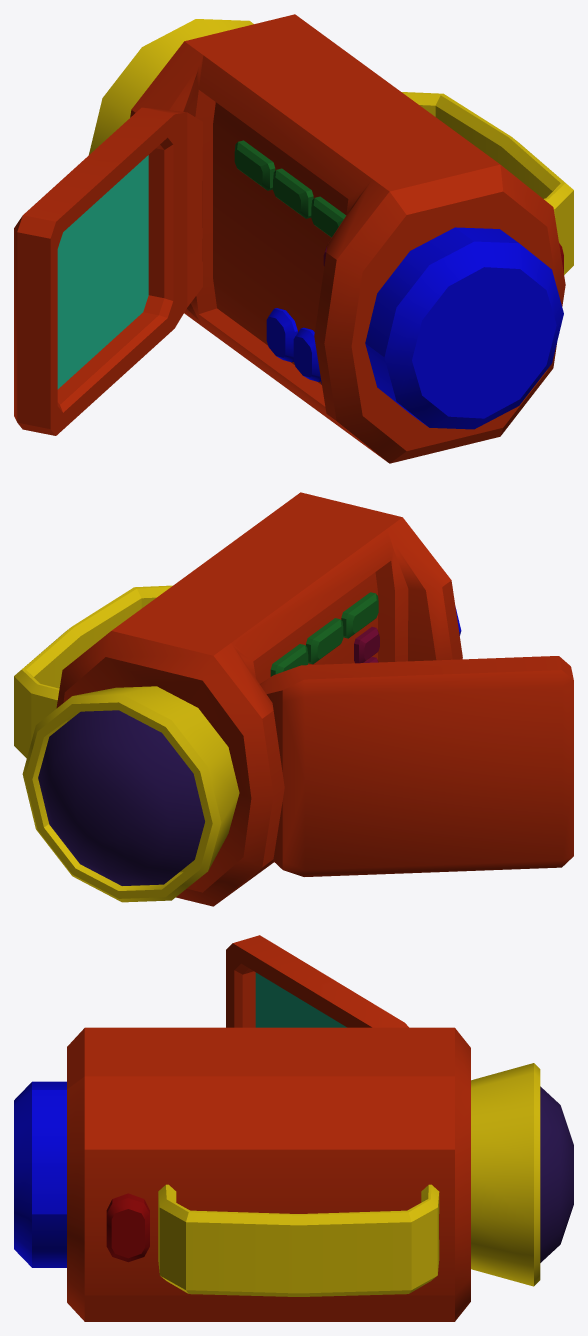
The model's file is Video-Camera-2.FBX.
The picture shows the model from 3 angles, top to bottom: view 1: azimuth 30°, elevation 25°; view 2: azimuth 150°, elevation 25°; view 3: azimuth 270°, elevation 25°; orthographic projection. The views are drawn at different scales.
Parts seen in each view (by area): view 1: Video-Camera-2; view 2: Video-Camera-2; view 3: Video-Camera-2.
Boxes of the visible parts, x1,y1,x2,y2 form: Video-Camera-2: (14, 14, 573, 463); Video-Camera-2: (14, 492, 573, 906); Video-Camera-2: (14, 935, 573, 1321).
Size of the model in its own units: 1010 by 1032 by 499.
